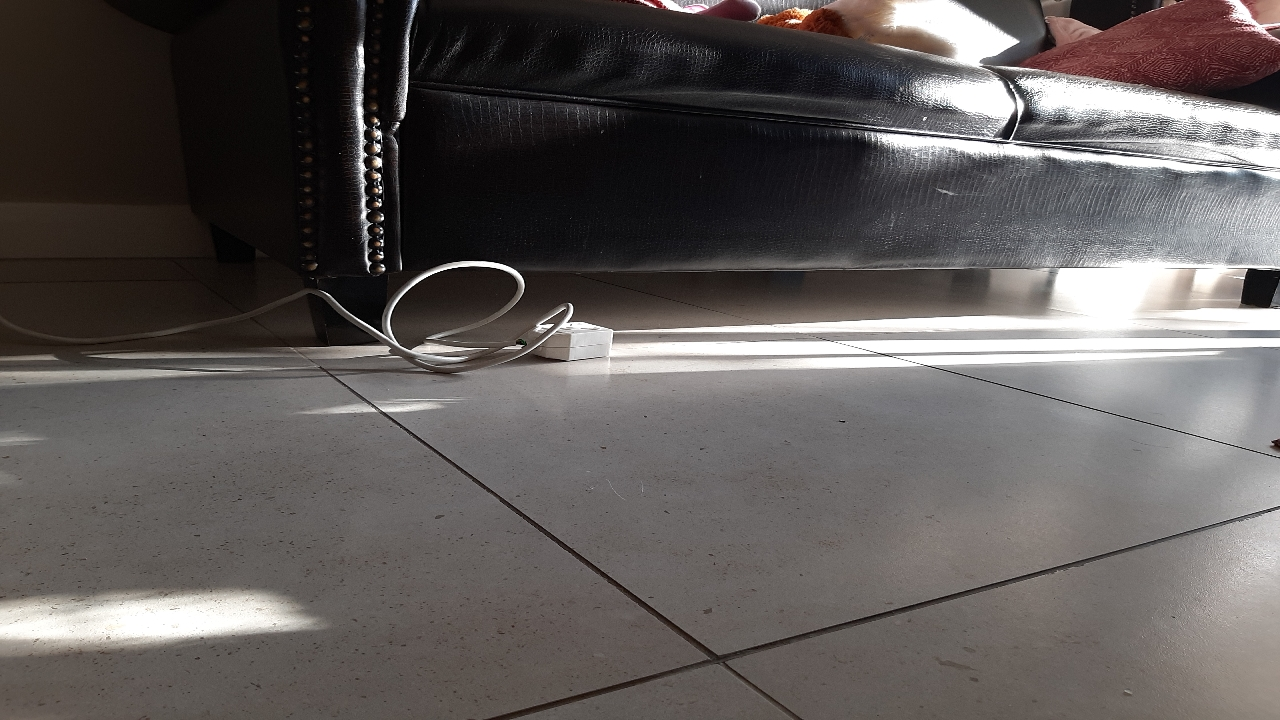cable: (418, 260, 638, 397), (54, 297, 269, 370)
